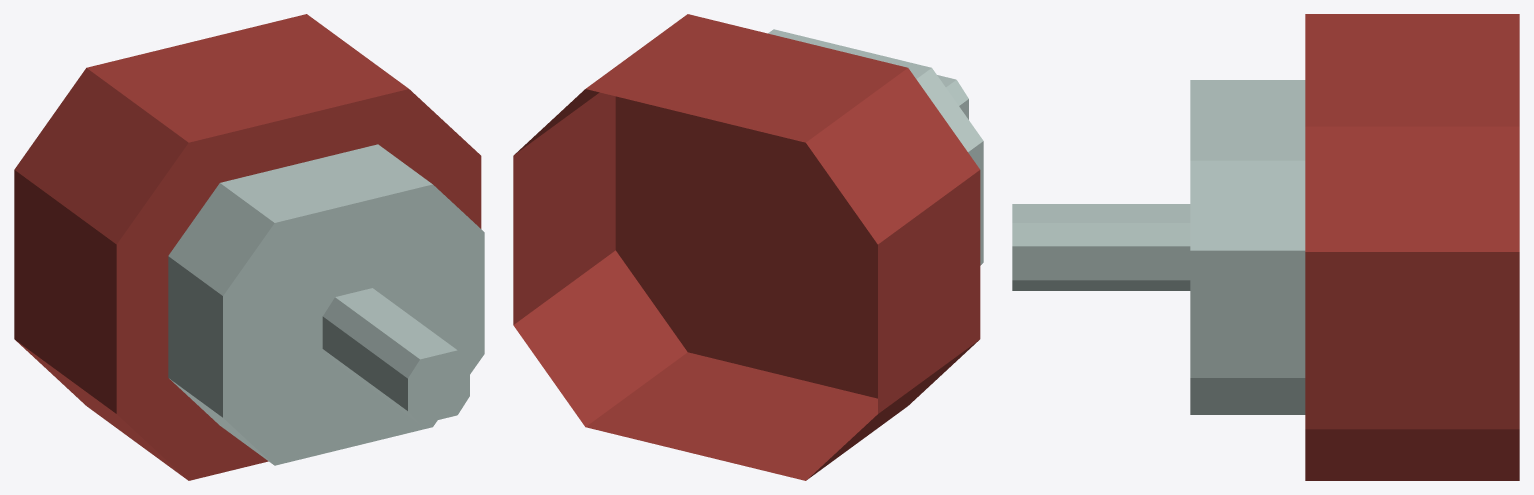
Rendered from boss01_miniCannon.FBX.
The picture shows the model from 3 angles, left to right: view 1: azimuth 30°, elevation 25°; view 2: azimuth 150°, elevation 25°; view 3: azimuth 270°, elevation 25°; orthographic projection. The views are drawn at different scales.
Parts seen in each view (by area): view 1: boss01_miniCannon; view 2: boss01_miniCannon; view 3: boss01_miniCannon.
Boxes of the visible parts, <box> form: boss01_miniCannon: <box>14,14,484,480</box>; boss01_miniCannon: <box>513,14,983,480</box>; boss01_miniCannon: <box>1012,14,1519,480</box>.
Bounding box in the file's own units: 1.41 × 1.25 × 1.63.
